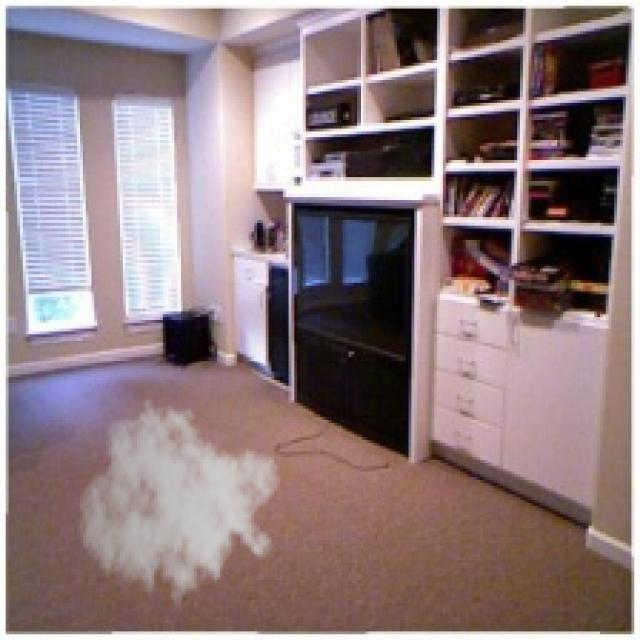smoke: (77, 397, 283, 620)
